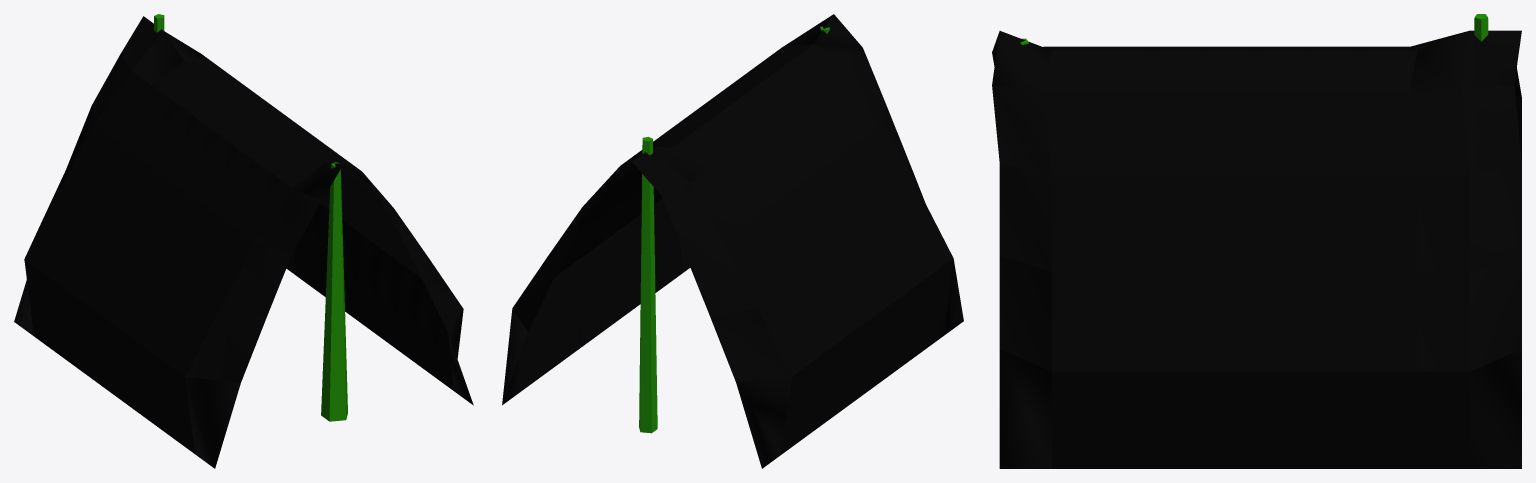
Rendered from OldTent_KW.fbx.
The picture shows the model from 3 angles, left to right: view 1: azimuth 30°, elevation 25°; view 2: azimuth 150°, elevation 25°; view 3: azimuth 270°, elevation 25°; orthographic projection. The views are drawn at different scales.
Parts seen in each view (by area): view 1: OldTent_KW; view 2: OldTent_KW; view 3: OldTent_KW.
Boxes of the visible parts, x1=… form: OldTent_KW: x1=14, y1=14, x2=473, y2=468; OldTent_KW: x1=502, y1=14, x2=963, y2=468; OldTent_KW: x1=992, y1=14, x2=1521, y2=468.
Size of the model in its own units: 226 by 224 by 287.
